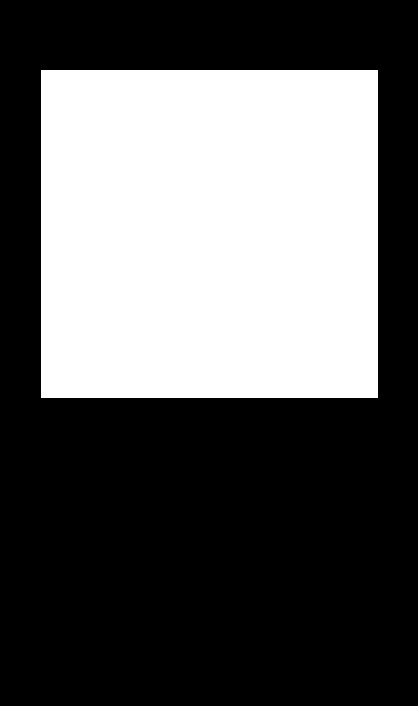table: (41, 70, 377, 397)
